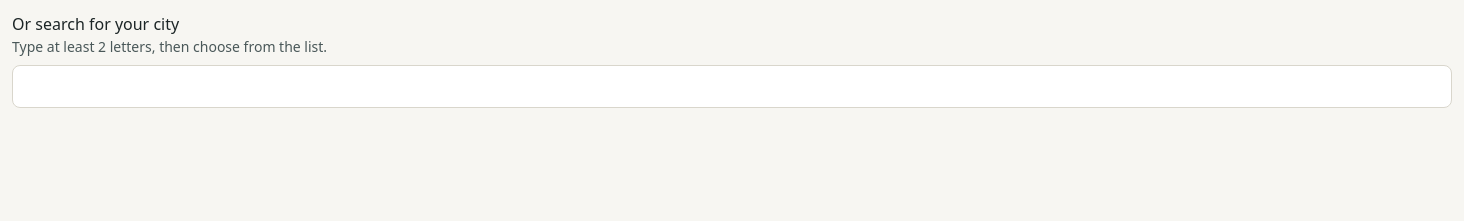
CityCombobox › follows the ARIA combobox keyboard pattern
The width and height of the screenshot is (1464, 221).
In the dropdown: coordinates (732, 86) [12,65,1452,108], type "Mu"
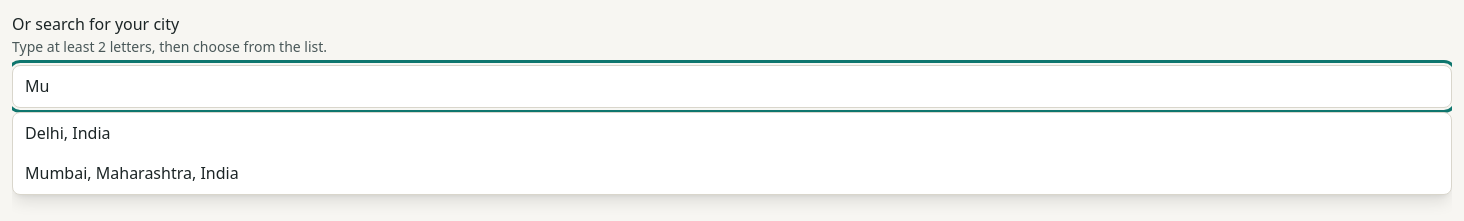
Expected: the dropdown is expanded, [12,65,1452,108]
Press Arrowdown Arrowdown
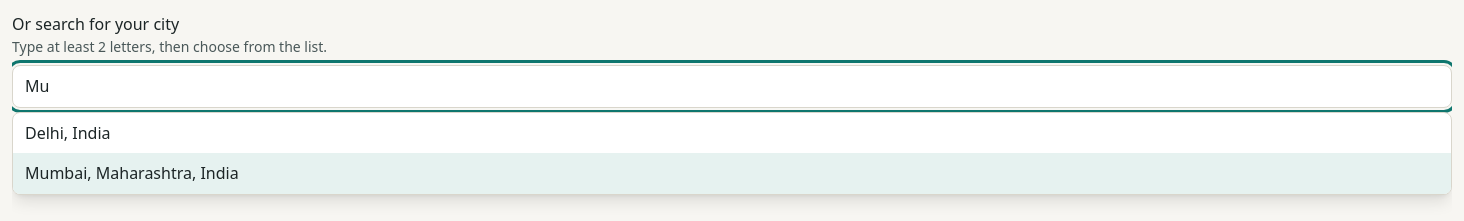
Expected: the option "Mumbai, Maharashtra, India" is shown, [13,153,1451,194]
Press Arrowup Arrowdown Enter
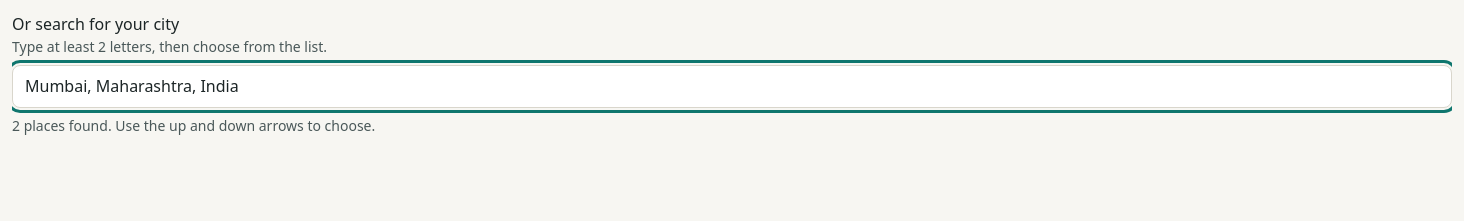
Expected: the dropdown holds "Mumbai, Maharashtra, India", [12,65,1452,108]
Expected: the dropdown is collapsed, [12,65,1452,108]
